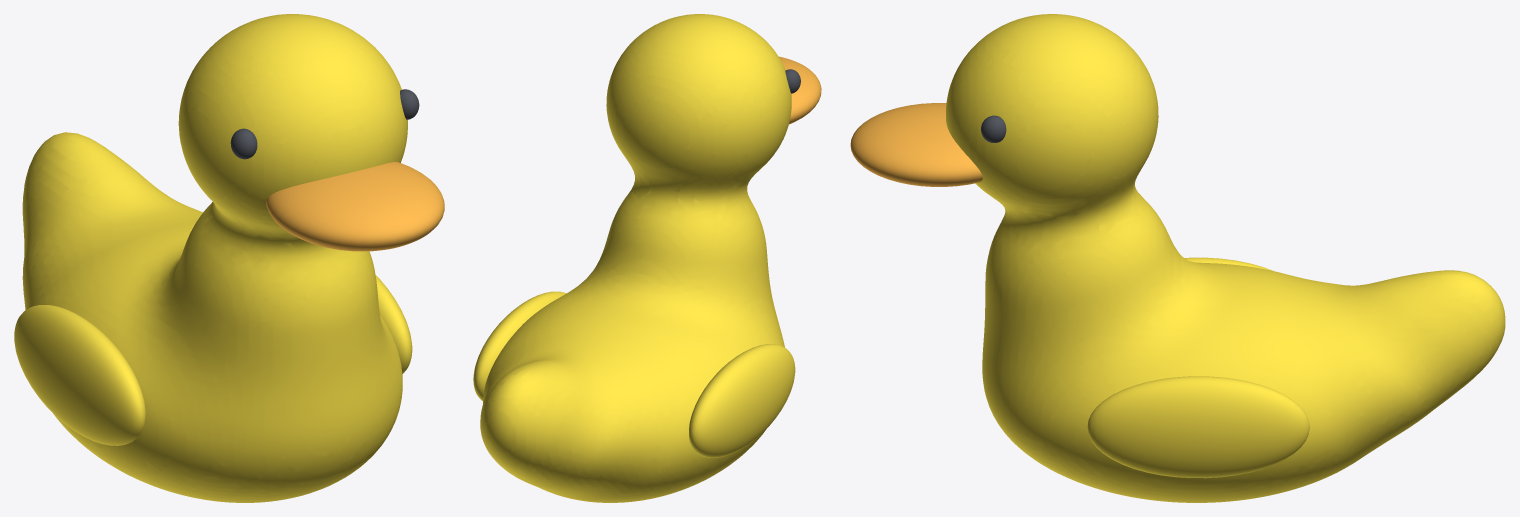
File: duck_06_tall_head.glb
3 views of the same model, side by side, from view 1: azimuth 30°, elevation 25°; view 2: azimuth 150°, elevation 25°; view 3: azimuth 270°, elevation 25° (orthographic). The views are drawn at different scales.
Visible parts, largest first — view 1: Body, Wing_Left, Beak, Wing_Right, Eye_Left; view 2: Body, Wing_Left, Wing_Right, Beak; view 3: Body, Wing_Right, Beak.
Boxes of the visible parts, left/top/right/bottom form: Body: left=22, top=14, right=407, bottom=502; Wing_Left: left=14, top=305, right=145, bottom=445; Beak: left=266, top=162, right=444, bottom=251; Wing_Right: left=375, top=275, right=412, bottom=373; Eye_Left: left=230, top=128, right=257, bottom=159; Body: left=480, top=14, right=791, bottom=502; Wing_Left: left=689, top=344, right=795, bottom=457; Wing_Right: left=473, top=291, right=566, bottom=400; Beak: left=779, top=56, right=821, bottom=124; Body: left=946, top=14, right=1505, bottom=502; Wing_Right: left=1087, top=376, right=1309, bottom=478; Beak: left=850, top=103, right=982, bottom=186.
Bounding box in the file's own units: 0.9 × 1.36 × 1.76.
